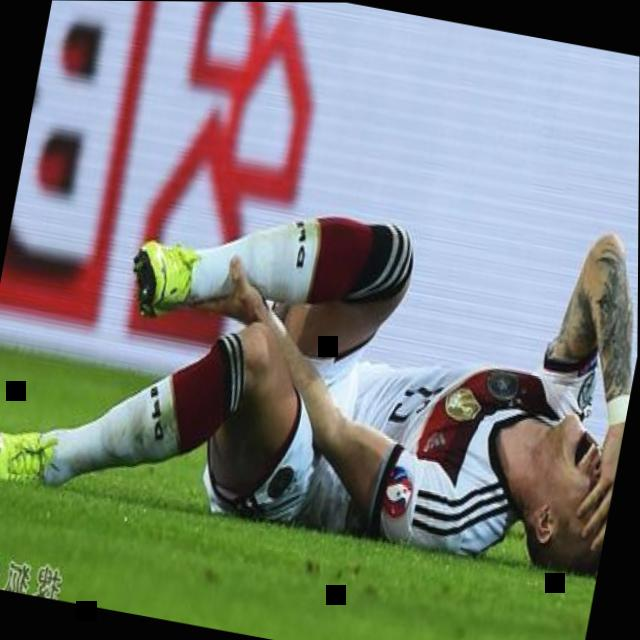Fall-Detected: (0, 86, 639, 591)
